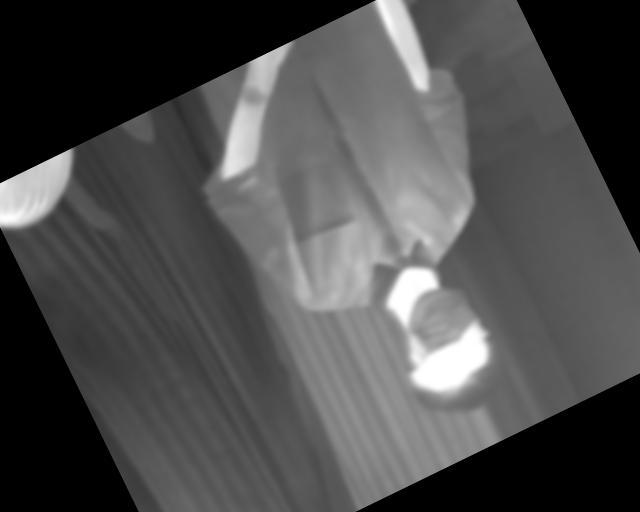face: (374, 274, 519, 433)
